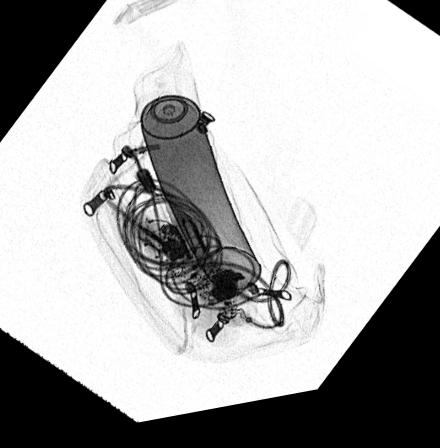Sprayer: (132, 47, 261, 301)
